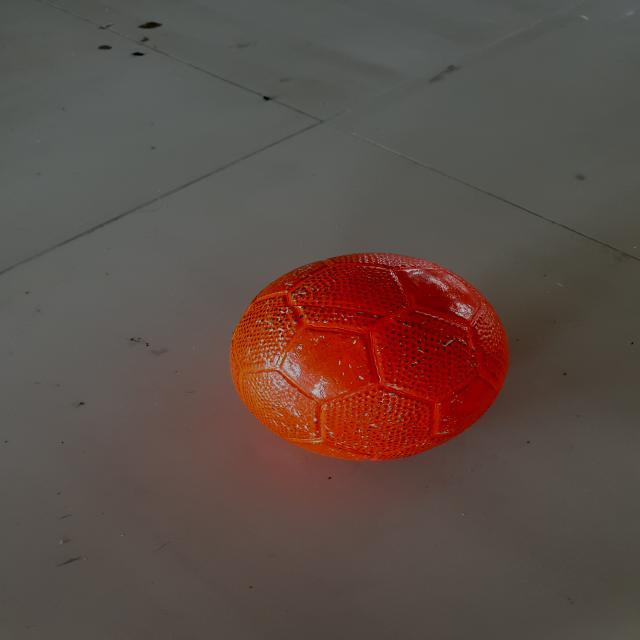bola: (235, 247, 513, 458)
